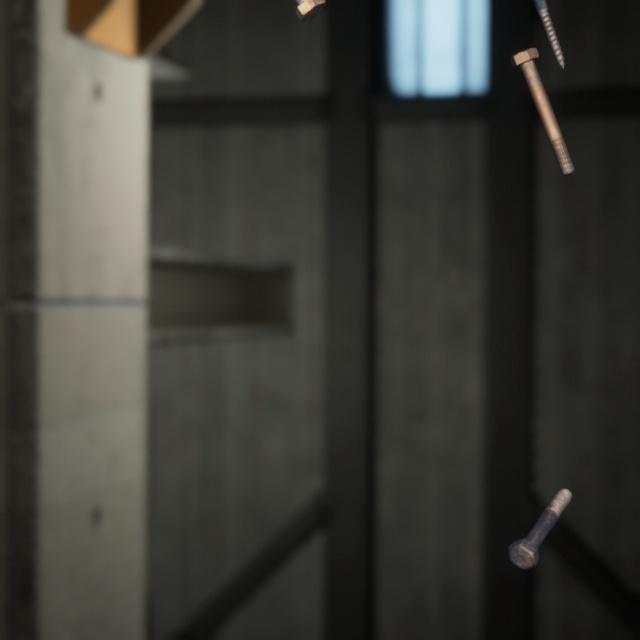bolt: (505, 31, 579, 168), (503, 462, 576, 551), (531, 0, 569, 65), (291, 0, 330, 22)
